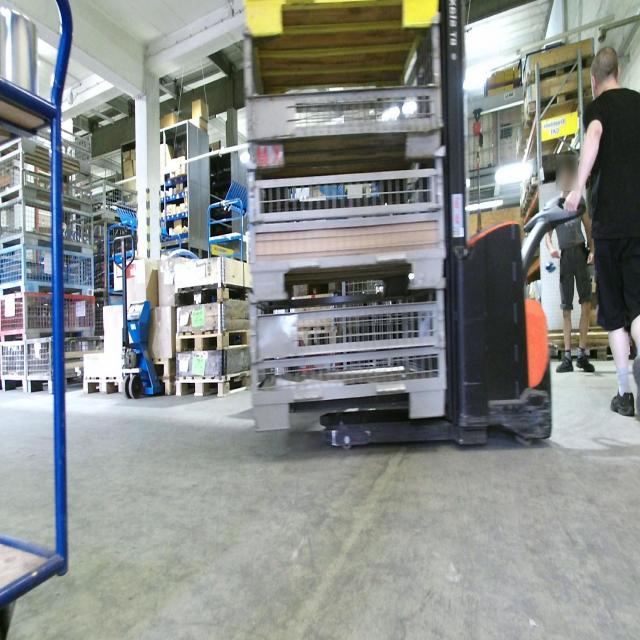pallet: (524, 68, 598, 130), (518, 41, 596, 98), (176, 375, 254, 408), (542, 334, 617, 368), (175, 281, 252, 308), (176, 327, 255, 351), (523, 169, 586, 193), (124, 352, 182, 375), (82, 373, 130, 395), (155, 377, 178, 393)
pallet_truck: (311, 2, 593, 461), (106, 222, 167, 399)
stillage: (249, 288, 453, 439), (247, 159, 446, 311), (242, 35, 448, 157), (1, 122, 95, 198), (242, 0, 446, 35), (1, 190, 98, 253), (1, 285, 97, 341), (76, 219, 141, 295), (1, 247, 96, 296), (27, 330, 96, 393), (75, 171, 151, 226), (84, 289, 138, 341), (1, 336, 28, 394)
